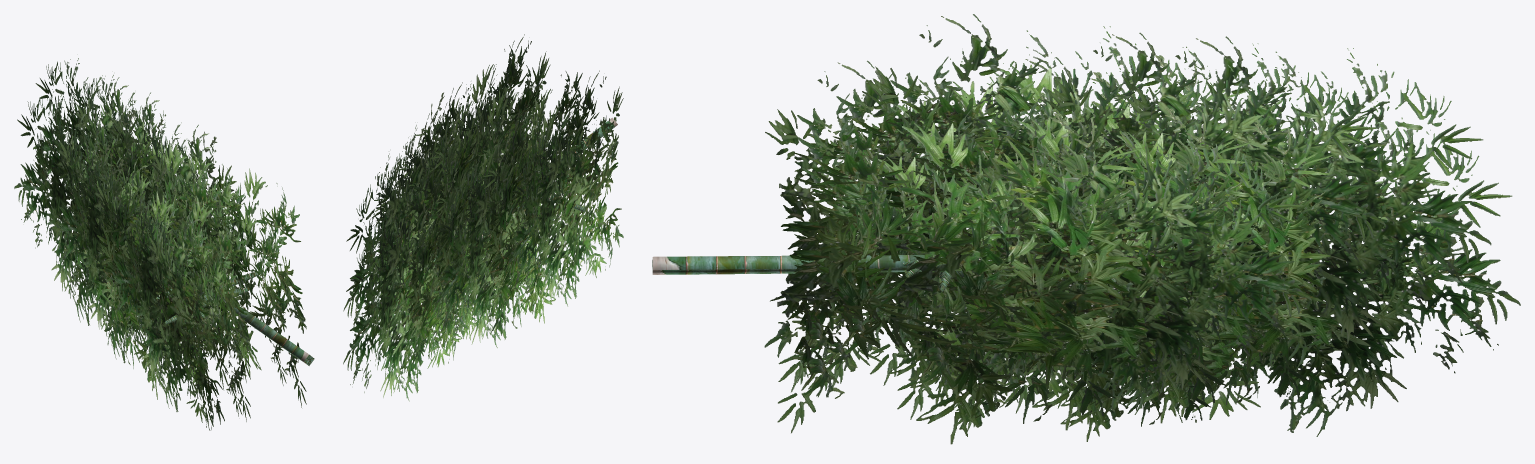
File: bamb_petit1.fbx
3 renders of one model, left to right at view 1: azimuth 30°, elevation 25°; view 2: azimuth 150°, elevation 25°; view 3: azimuth 270°, elevation 25°, orthographic. The views are drawn at different scales.
Parts seen in each view (by area): view 1: Sans_titre; view 2: Sans_titre; view 3: Sans_titre.
Boxes of the visible parts, x1,y1,x2,y2 form: Sans_titre: (14,58,314,430); Sans_titre: (343,34,623,401); Sans_titre: (652,14,1520,444).
Bounding box in the file's own units: 2.81 × 7.08 × 13.02.
Materials: 3 (3 with a texture image).
